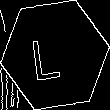L_N: (38, 28, 72, 82)
